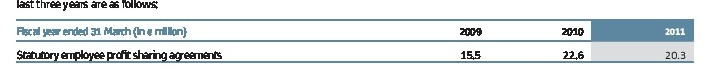table: (0, 0, 709, 80)
